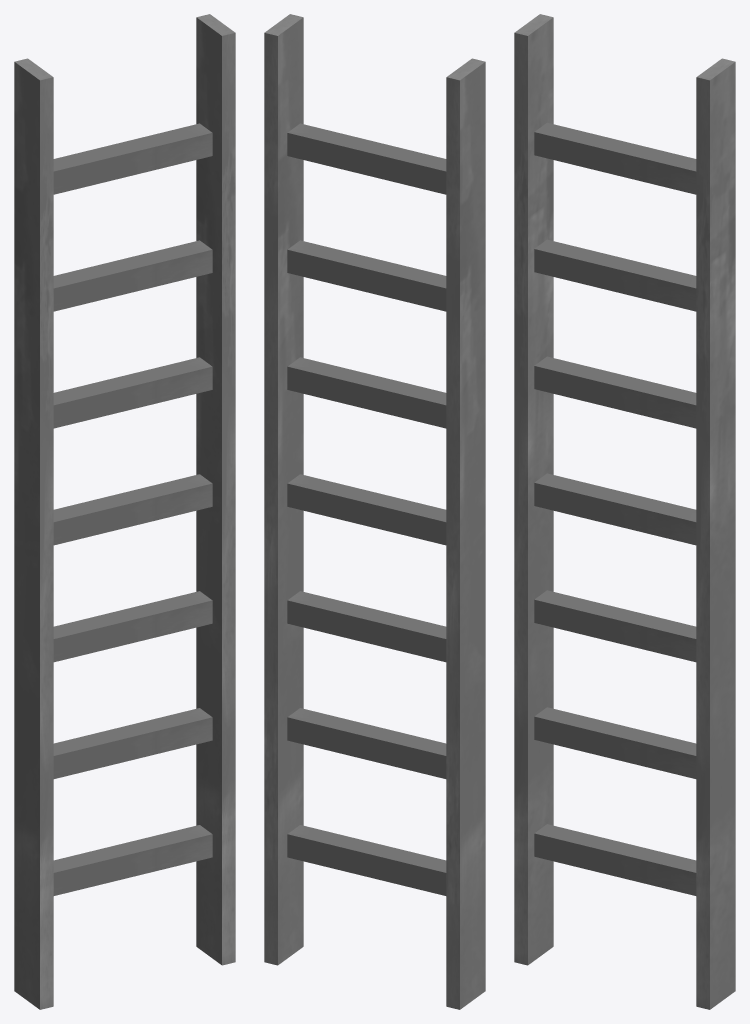
File: FBX_Model_MABacklog_Ladder_StraightLadder.fbx
3 views of the same model, side by side, from view 1: azimuth 30°, elevation 25°; view 2: azimuth 150°, elevation 25°; view 3: azimuth 330°, elevation 25° (orthographic).
Visible parts, largest first — view 1: StraightLadder_Pole_L, StraightLadder_Pole_R, StraightLadder_Rung_4, StraightLadder_Rung_2, StraightLadder_Rung_5, StraightLadder_Rung_0, StraightLadder_Rung_1, StraightLadder_Rung_3, StraightLadder_Rung_6; view 2: StraightLadder_Pole_L, StraightLadder_Pole_R, StraightLadder_Rung_4, StraightLadder_Rung_2, StraightLadder_Rung_5, StraightLadder_Rung_0, StraightLadder_Rung_1, StraightLadder_Rung_3, StraightLadder_Rung_6; view 3: StraightLadder_Pole_R, StraightLadder_Pole_L, StraightLadder_Rung_4, StraightLadder_Rung_1, StraightLadder_Rung_2, StraightLadder_Rung_5, StraightLadder_Rung_0, StraightLadder_Rung_3, StraightLadder_Rung_6.
Part boxes in pixels (x1,y1,x2,y2): StraightLadder_Pole_L: (14,58,53,1009); StraightLadder_Pole_R: (196,14,235,965); StraightLadder_Rung_4: (53,357,212,428); StraightLadder_Rung_2: (53,591,212,662); StraightLadder_Rung_5: (53,240,212,311); StraightLadder_Rung_0: (53,825,212,895); StraightLadder_Rung_1: (53,708,212,778); StraightLadder_Rung_3: (53,474,212,545); StraightLadder_Rung_6: (53,123,212,194); StraightLadder_Pole_L: (446,58,485,1009); StraightLadder_Pole_R: (264,14,303,965); StraightLadder_Rung_4: (287,357,446,428); StraightLadder_Rung_2: (287,591,446,662); StraightLadder_Rung_5: (287,240,446,311); StraightLadder_Rung_0: (287,825,446,895); StraightLadder_Rung_1: (287,708,446,778); StraightLadder_Rung_3: (287,474,446,545); StraightLadder_Rung_6: (287,123,446,194); StraightLadder_Pole_R: (696,58,735,1009); StraightLadder_Pole_L: (514,14,553,965); StraightLadder_Rung_4: (534,356,696,428); StraightLadder_Rung_1: (534,707,696,778); StraightLadder_Rung_2: (534,590,696,662); StraightLadder_Rung_5: (534,239,696,311); StraightLadder_Rung_0: (534,824,696,895); StraightLadder_Rung_3: (534,473,696,545); StraightLadder_Rung_6: (534,122,696,194).
Size of the model in its own units: 2.2 by 10 by 0.5.
Materials: 1 (1 with a texture image).
